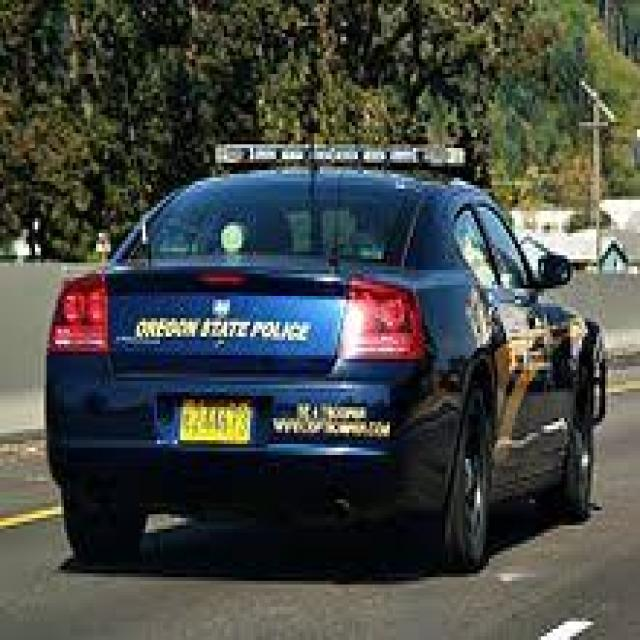cop: (44, 140, 607, 570)
